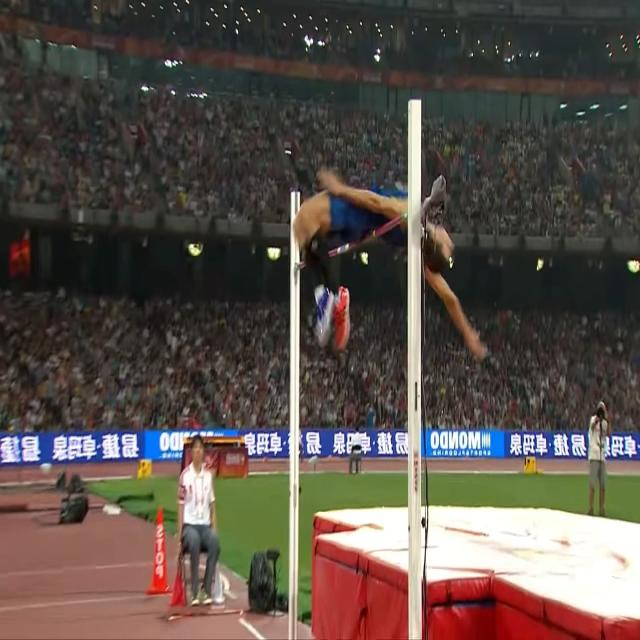jump: (293, 168, 488, 358)
